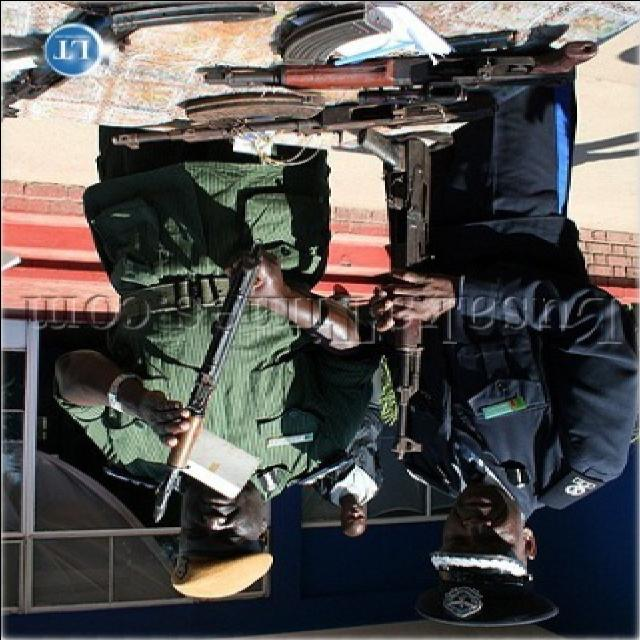rifle: (139, 226, 285, 536), (343, 129, 449, 475), (193, 39, 603, 102)
